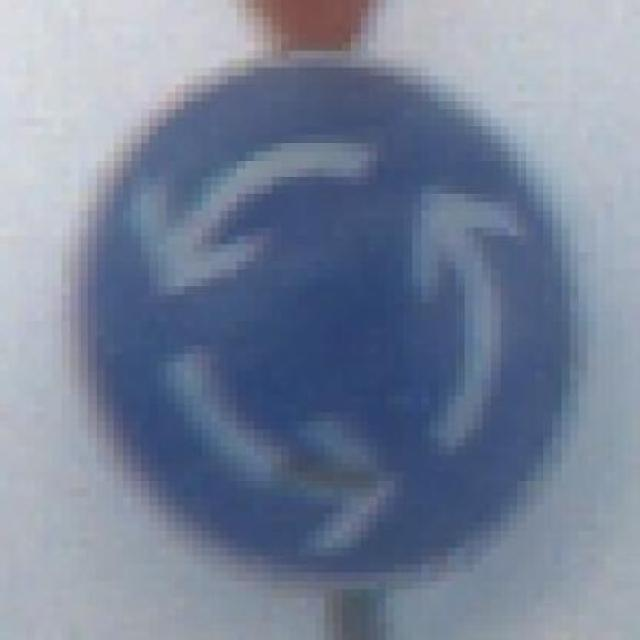Round-About: (26, 41, 623, 598)
